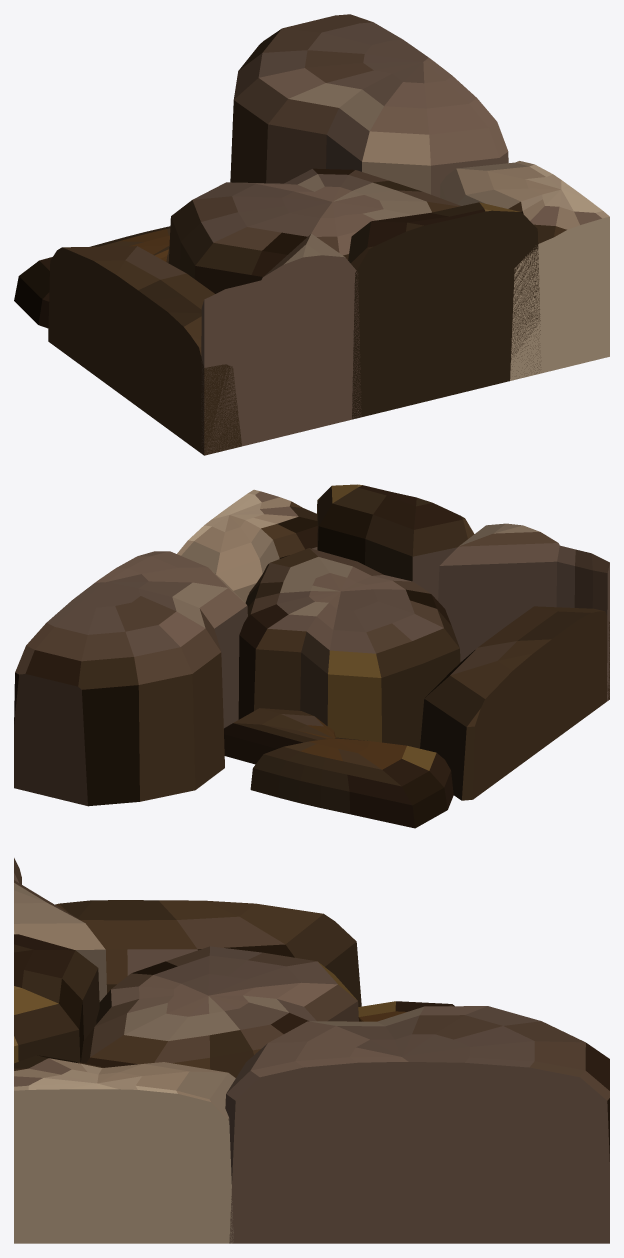
The model's file is newshr-155.glb.
The picture shows the model from 3 angles, top to bottom: view 1: azimuth 30°, elevation 25°; view 2: azimuth 150°, elevation 25°; view 3: azimuth 270°, elevation 25°; orthographic projection. The views are drawn at different scales.
Visible parts, largest first — view 1: newshr-155; view 2: newshr-155; view 3: newshr-155.
Part boxes in pixels (box(x1,y1,x2,y2)): newshr-155: box(14, 14, 609, 455); newshr-155: box(14, 484, 609, 828); newshr-155: box(14, 858, 609, 1243).
Size of the model in its own units: 2 by 0.8309 by 2.33.
